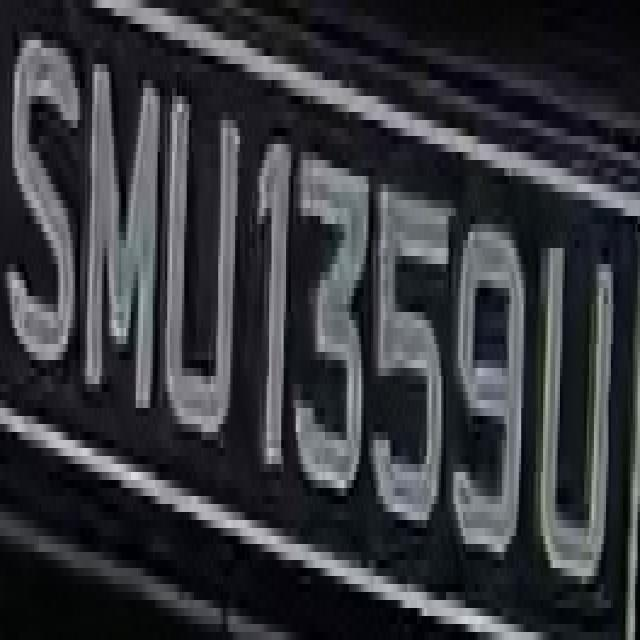1: (250, 104, 296, 496)
3: (291, 112, 373, 520)
5: (371, 136, 453, 544)
9: (453, 184, 531, 576)
M: (75, 32, 160, 424)
S: (10, 16, 80, 384)
U: (162, 64, 242, 448), (538, 216, 618, 592)
